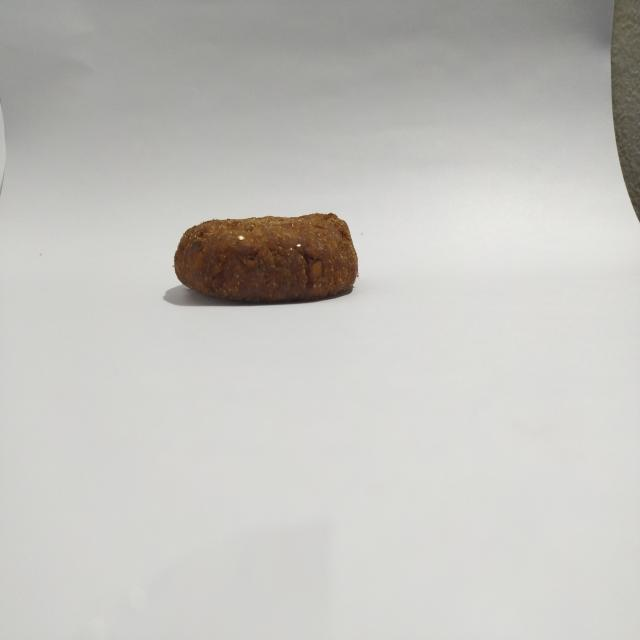Food: (165, 202, 368, 316)
